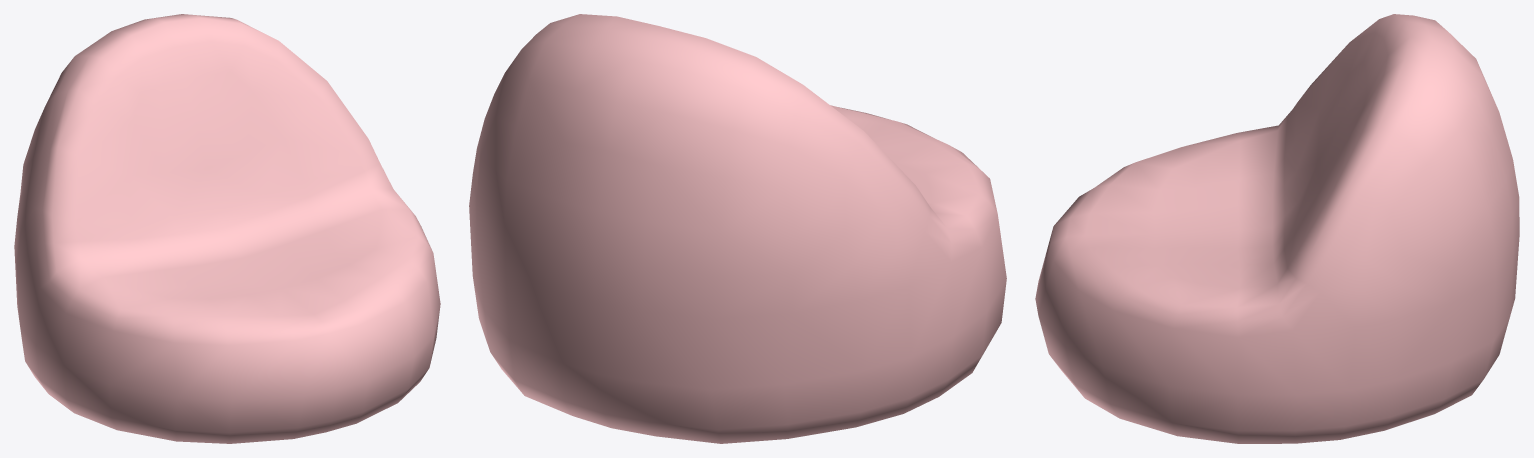
The model's file is sunbed_K.fbx.
The picture shows the model from 3 angles, left to right: view 1: azimuth 30°, elevation 25°; view 2: azimuth 150°, elevation 25°; view 3: azimuth 270°, elevation 25°; orthographic projection. The views are drawn at different scales.
Parts seen in each view (by area): view 1: Chair_20; view 2: Chair_20; view 3: Chair_20.
Part boxes in pixels (bbox=[...]): Chair_20: bbox=[14, 14, 440, 443]; Chair_20: bbox=[469, 14, 1006, 443]; Chair_20: bbox=[1035, 14, 1519, 443].
Size of the model in its own units: 126 by 99.15 by 134.
